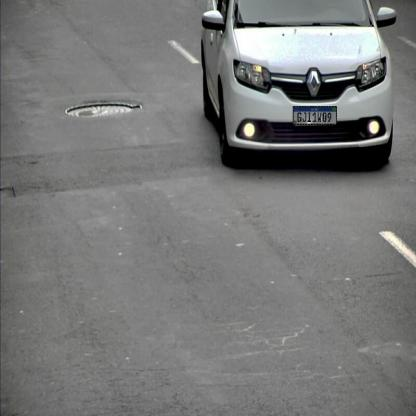PlacaM: (293, 106, 337, 125)
